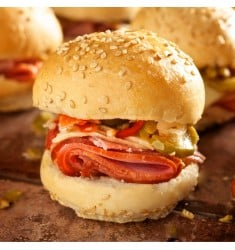soup: (31, 29, 208, 218)
